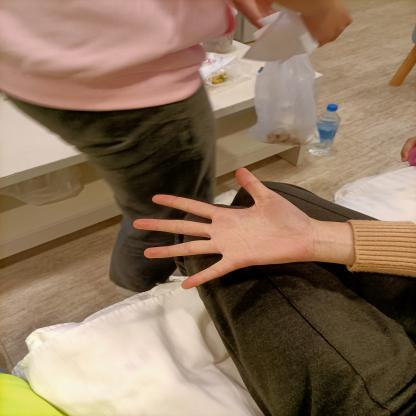bare_hand: (130, 156, 340, 296)
